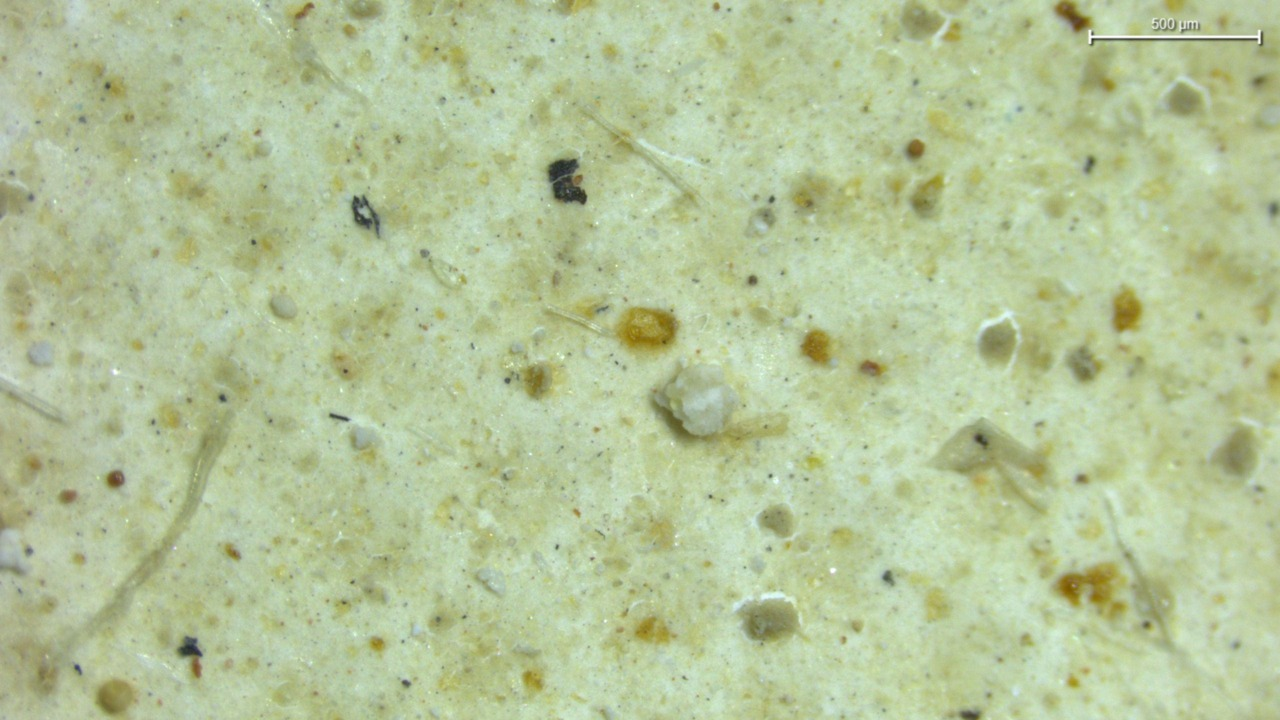microplastic_fragment: (577, 105, 705, 200), (655, 364, 739, 436), (932, 418, 1044, 472), (271, 294, 297, 319), (28, 341, 54, 366), (351, 425, 378, 449), (354, 427, 365, 435)
